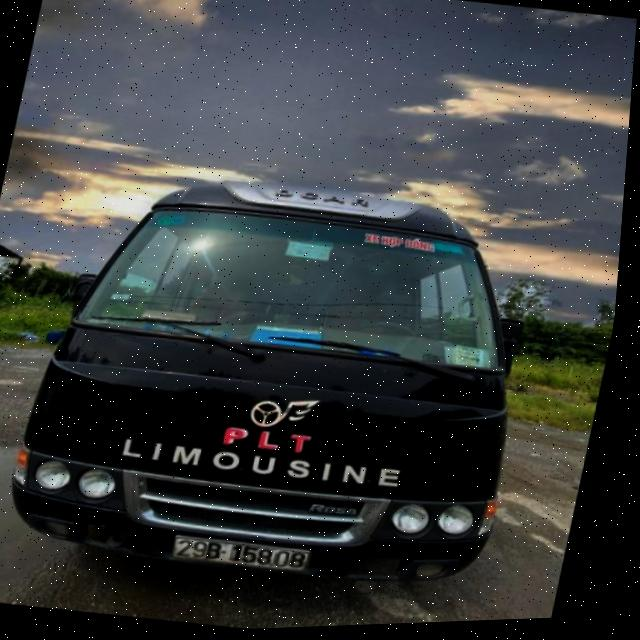car: (0, 105, 555, 620)
plate: (161, 522, 319, 586)
